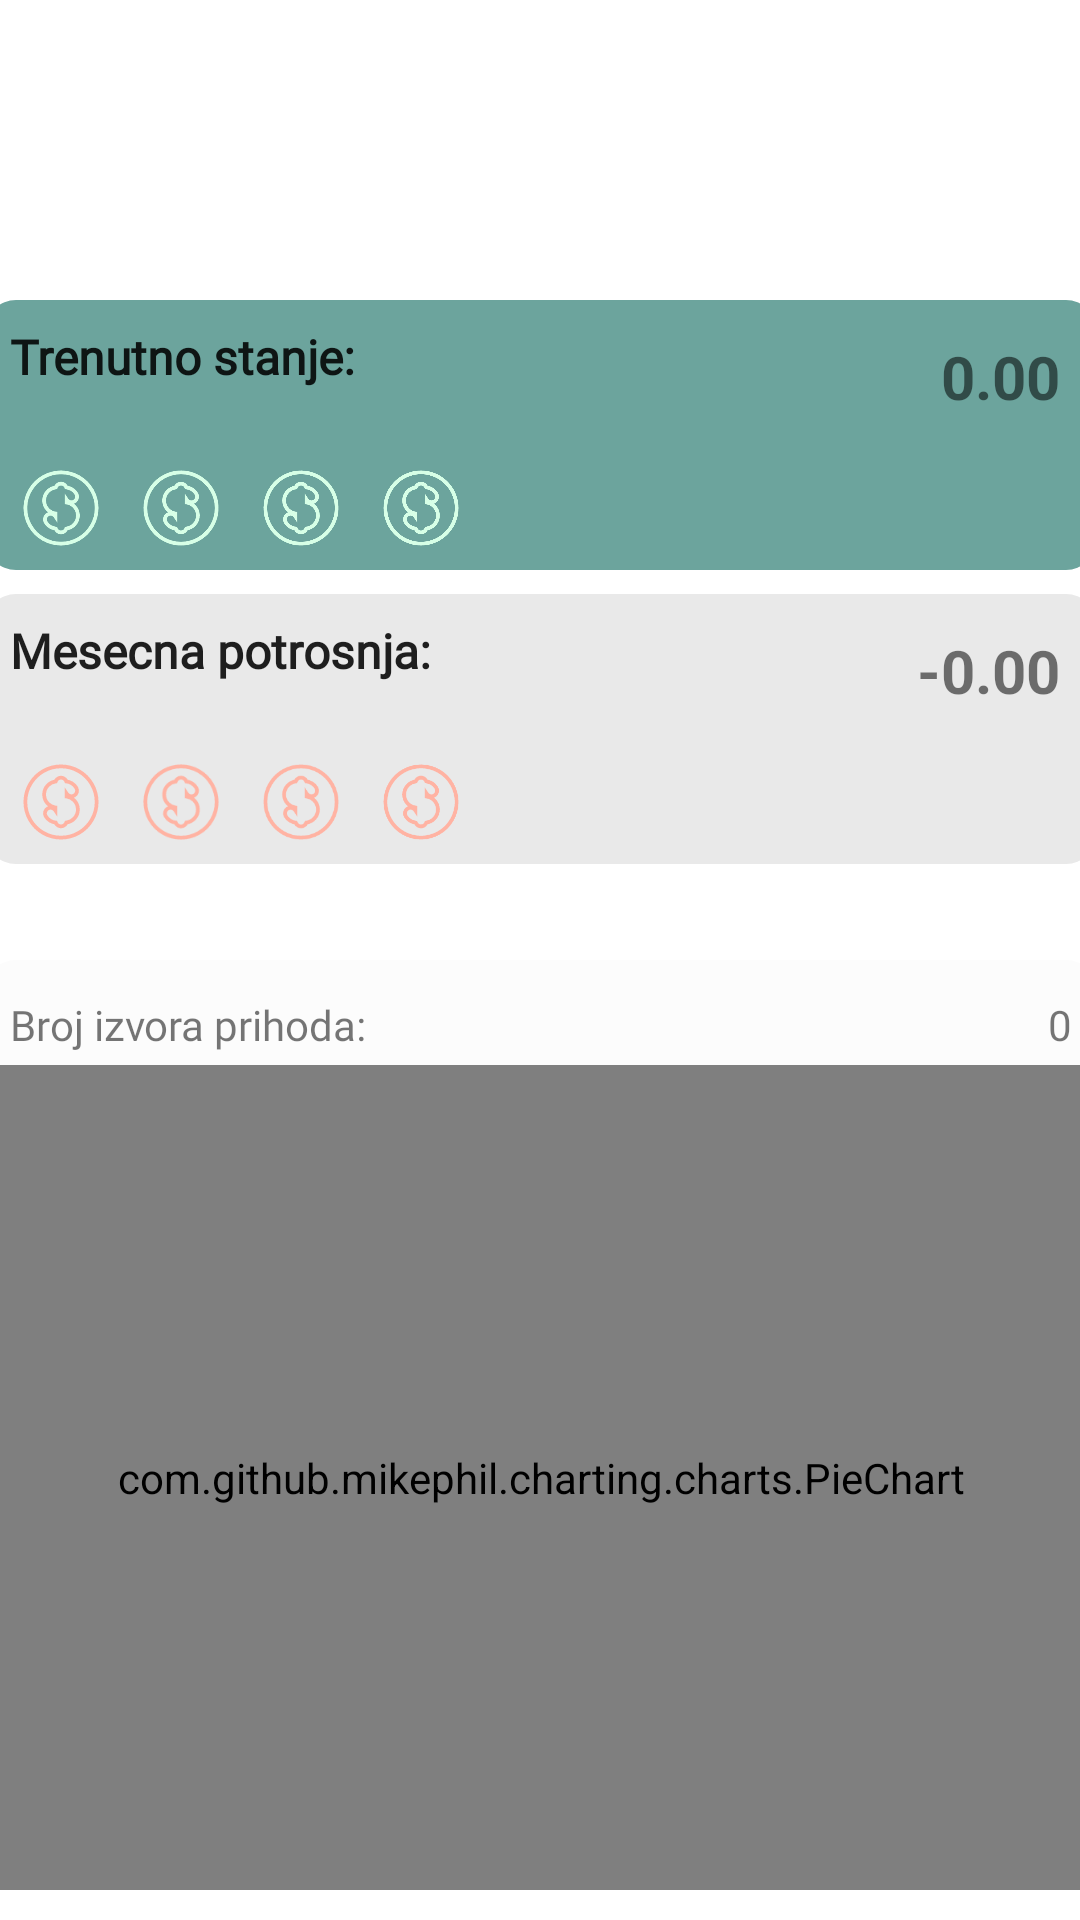

Named icons in this screenshot (1080px x 1920px) and their bounding boxes, (x1, y1, x2, y2):
tabler coin empty: (23, 470, 99, 546), (143, 470, 219, 546), (263, 470, 339, 546), (383, 470, 459, 546), (23, 764, 99, 840), (143, 764, 219, 840), (264, 764, 339, 840), (383, 764, 459, 840)
